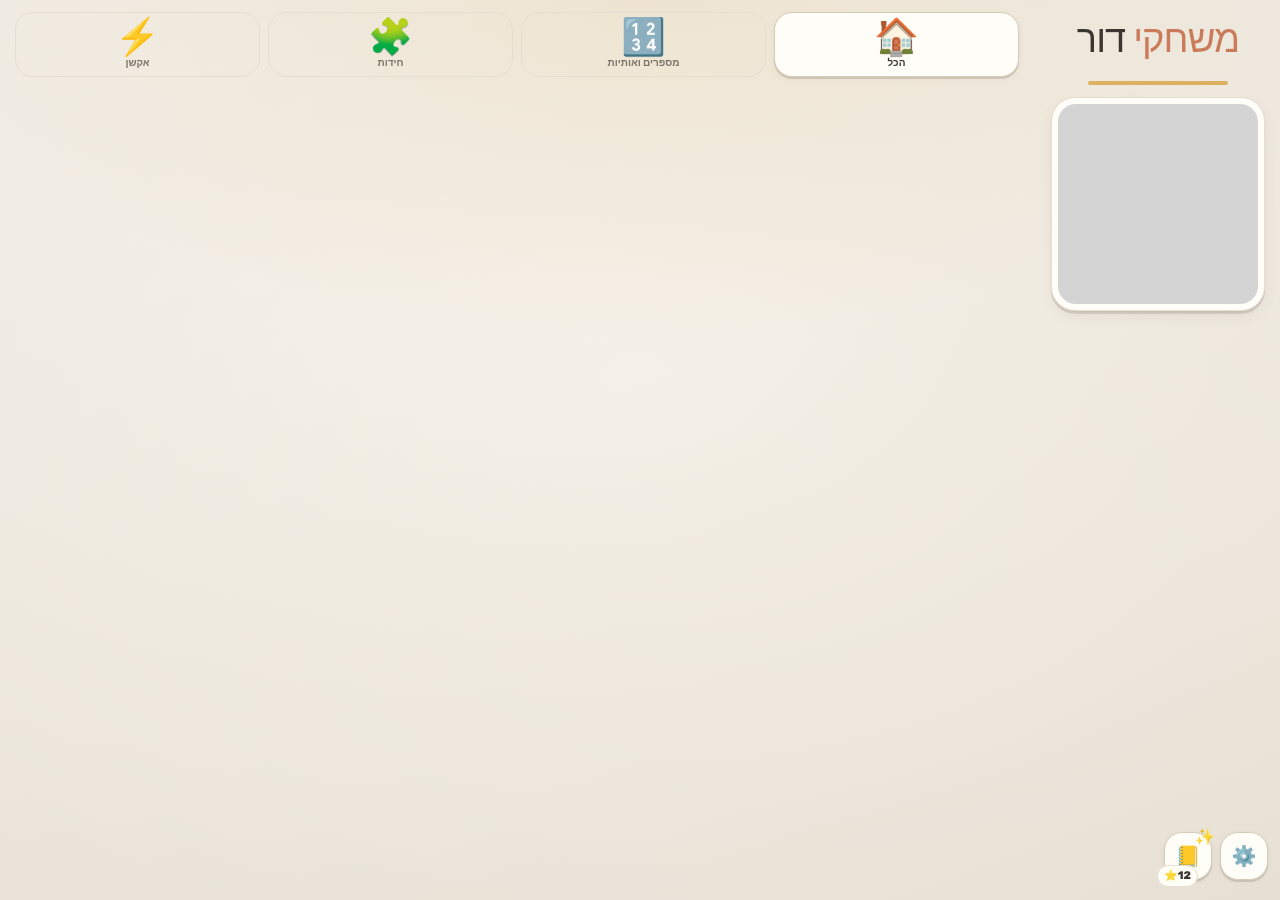
Scenario: MainMenu › opens the sticker book from earned stars
This screenshot has width=1280, height=900.
Click the button with test id "sticker-book-button".
click(1188, 856)  # box [1164, 832, 1212, 880]
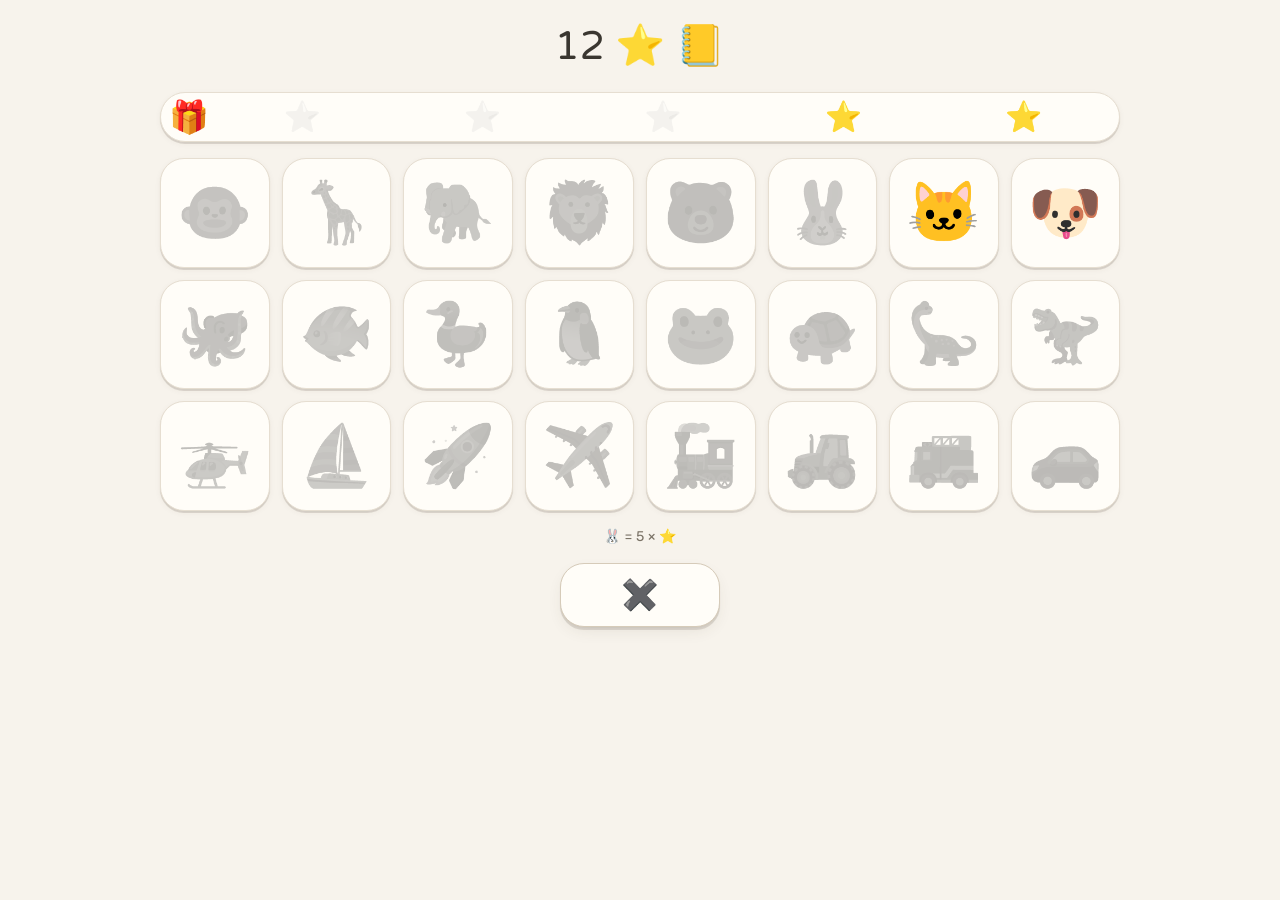
Expected: the number of elements with test id "sticker-earned" is 2, [1010, 158, 1120, 268]; [889, 158, 998, 268]
